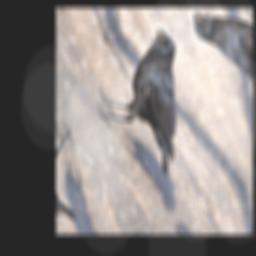Crow: (76, 24, 226, 192)
